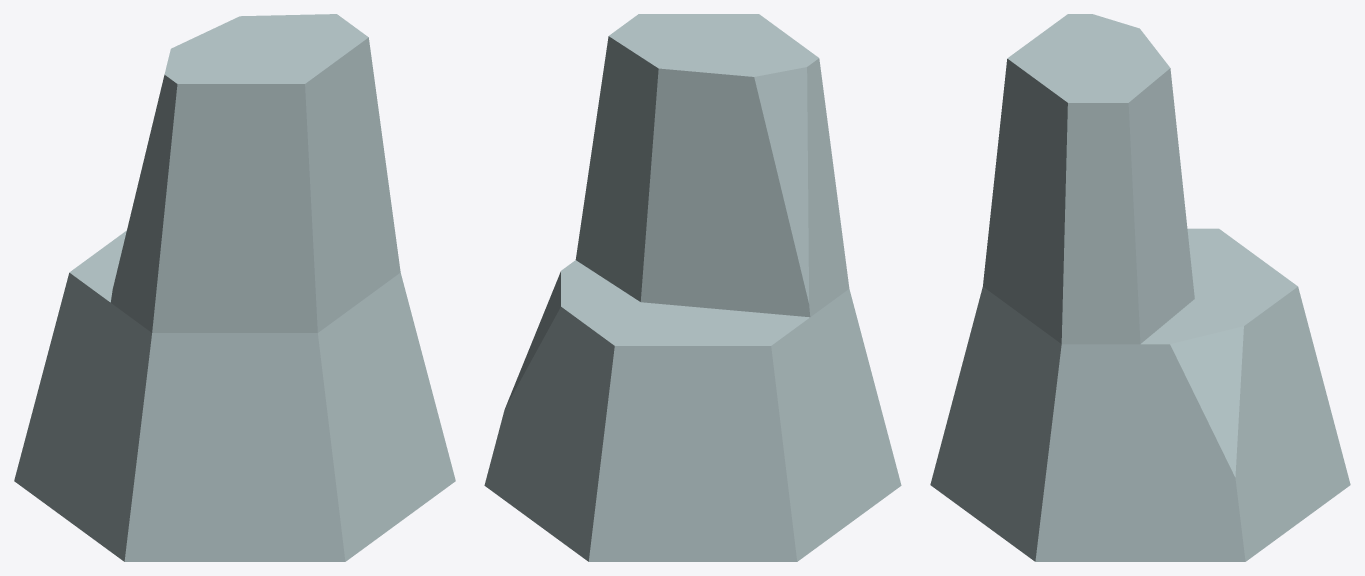
The model's file is stone_tallF.glb.
3 views of the same model, side by side, from view 1: azimuth 30°, elevation 25°; view 2: azimuth 150°, elevation 25°; view 3: azimuth 270°, elevation 25° (orthographic). The views are drawn at different scales.
Parts seen in each view (by area): view 1: stone_tallF; view 2: stone_tallF; view 3: stone_tallF.
Part boxes in pixels (box(x1,y1,x2,y2)): stone_tallF: box(14, 14, 455, 561); stone_tallF: box(484, 14, 901, 561); stone_tallF: box(930, 14, 1350, 561).
Bounding box in the file's own units: 0.4437 × 0.5737 × 0.5123.
